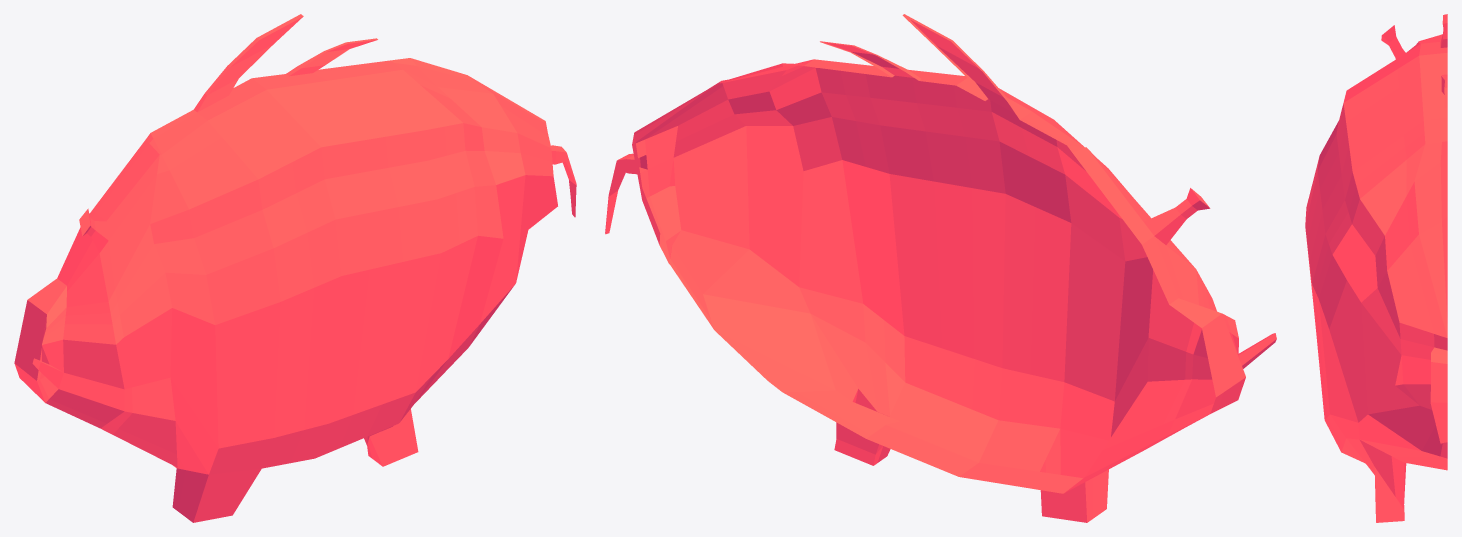
Rendered from pig1.glb.
3 views of the same model, side by side, from view 1: azimuth 30°, elevation 25°; view 2: azimuth 150°, elevation 25°; view 3: azimuth 270°, elevation 25° (orthographic). The views are drawn at different scales.
Parts seen in each view (by area): view 1: Plane; view 2: Plane; view 3: Plane.
Boxes of the visible parts, bbox=[...] form: Plane: bbox=[14, 14, 576, 522]; Plane: bbox=[605, 14, 1276, 522]; Plane: bbox=[1305, 14, 1447, 522].
Bounding box in the file's own units: 3.71 × 2.75 × 0.7521.
